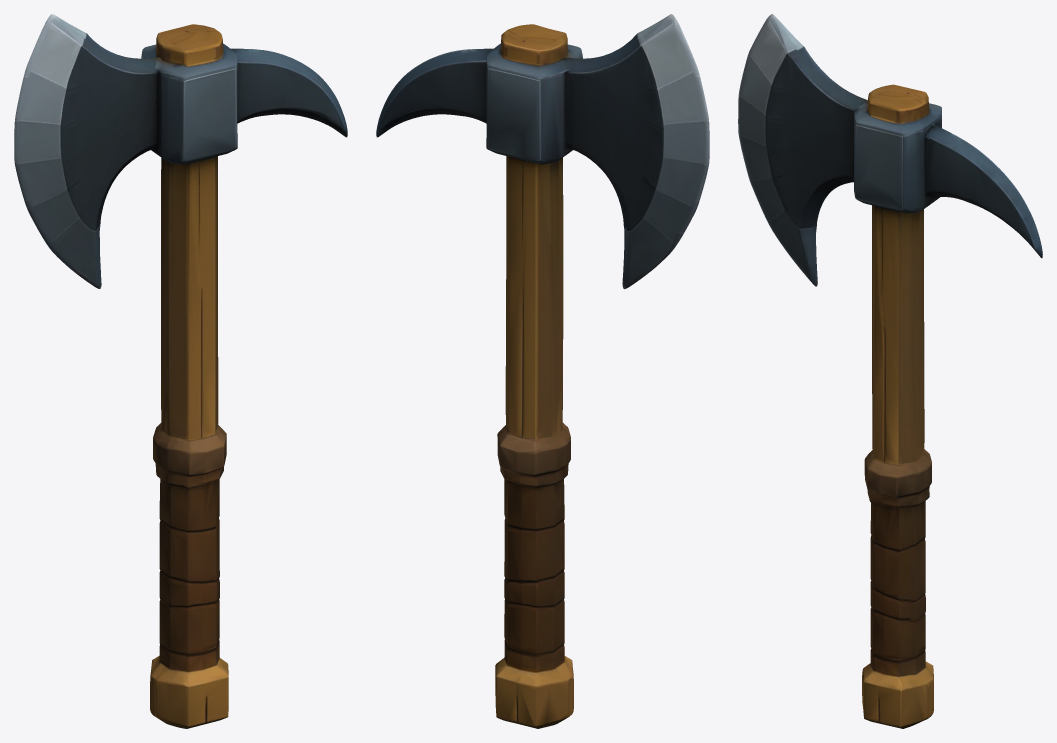
The model's file is battleaxe.glb.
3 renders of one model, left to right at view 1: azimuth 30°, elevation 25°; view 2: azimuth 150°, elevation 25°; view 3: azimuth 330°, elevation 25°, orthographic. The views are drawn at different scales.
Visible parts, largest first — view 1: node_0; view 2: node_0; view 3: node_0.
Part boxes in pixels (bbox=[...]): node_0: bbox=[14, 14, 347, 728]; node_0: bbox=[376, 14, 709, 728]; node_0: bbox=[738, 14, 1042, 728].
Size of the model in its own units: 0.5349 by 1.13 by 0.1157.
1 material, 1 textured.
